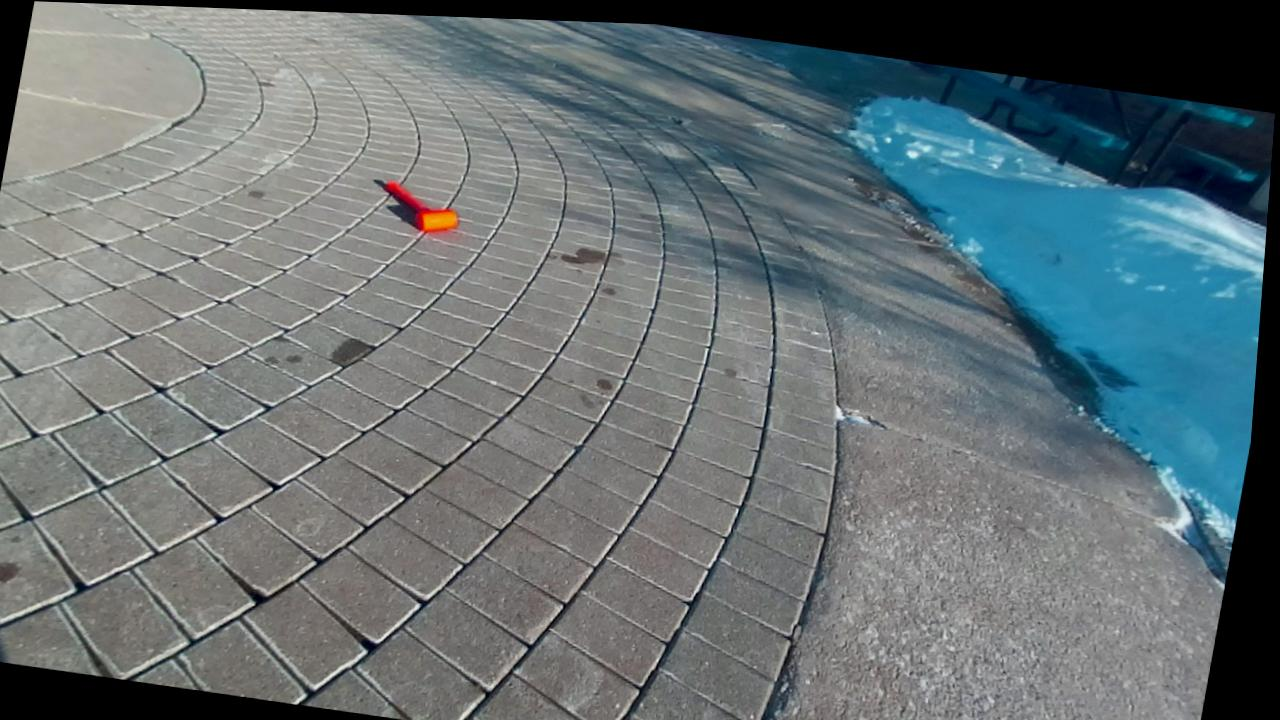mallet: (384, 182, 457, 231)
